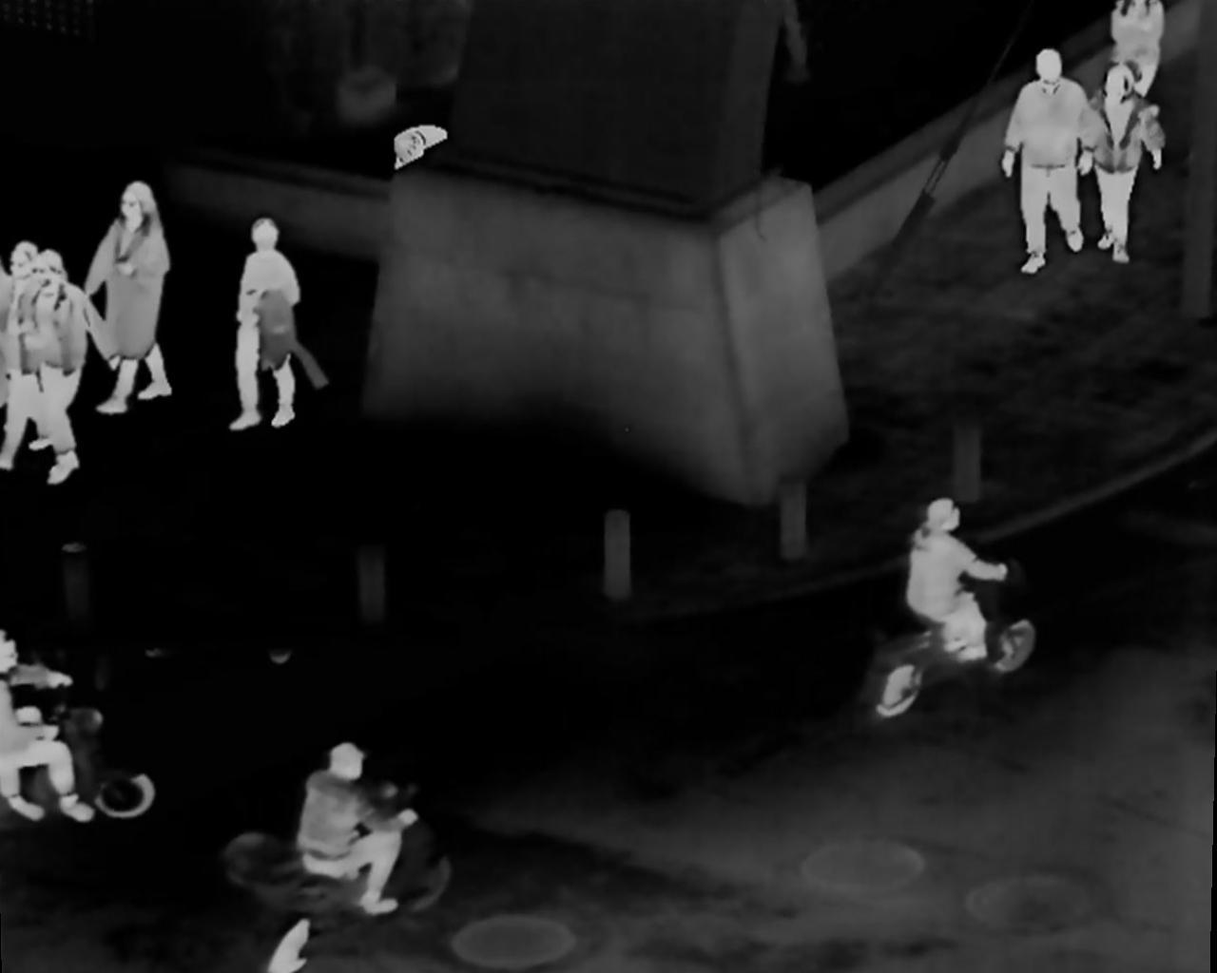person: (94, 177, 183, 421), (999, 47, 1087, 278), (219, 213, 313, 429), (301, 735, 408, 920), (898, 504, 996, 678), (1073, 66, 1158, 265), (31, 255, 95, 480)
